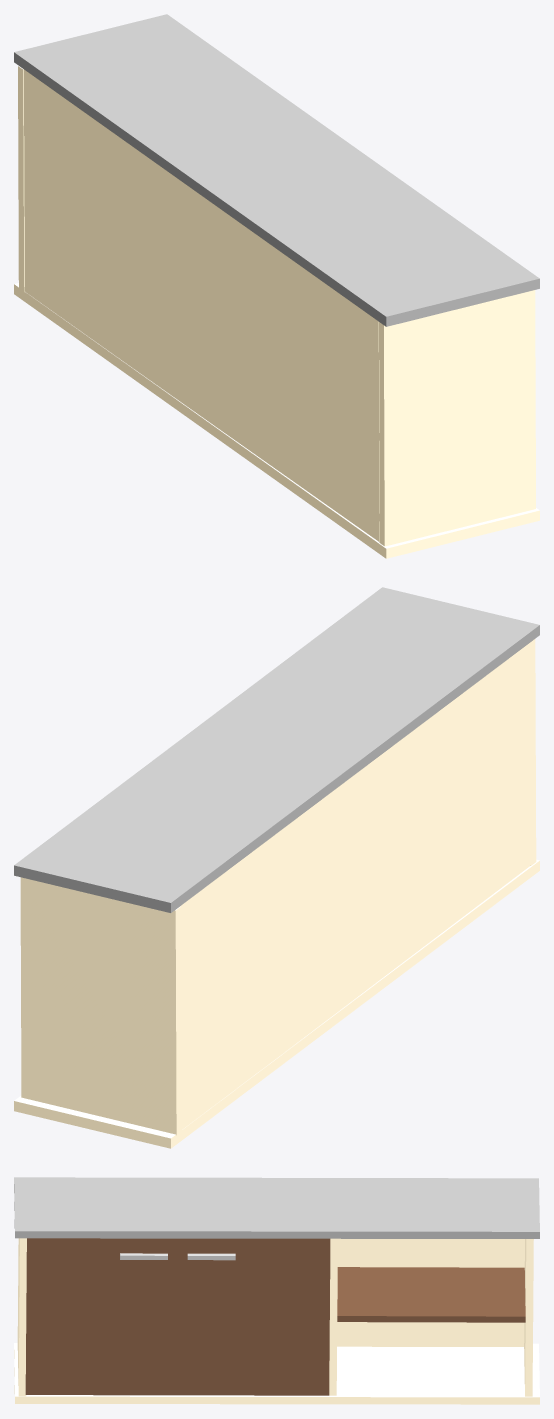
The picture shows the model from 3 angles, top to bottom: view 1: azimuth 30°, elevation 25°; view 2: azimuth 150°, elevation 25°; view 3: azimuth 270°, elevation 25°; orthographic projection. The views are drawn at different scales.
Parts seen in each view (by area): view 1: Cube.062, Cube.055, Cube.061, Cube.064, Cube.063; view 2: Cube.062, Cube.055, Cube.063, Cube.064, Cube.061; view 3: Cube.055, Cube.057, Cube.056, Cube.064, Cube.059, Cube.062, Cube.063, Cube.061, Cube.060, Cube.053, Cube.054.
Boxes of the visible parts, bbox=[...] form: Cube.062: bbox=[24, 69, 379, 542]; Cube.055: bbox=[14, 14, 539, 326]; Cube.061: bbox=[379, 290, 535, 546]; Cube.064: bbox=[14, 283, 539, 558]; Cube.063: bbox=[18, 65, 24, 292]; Cube.062: bbox=[180, 642, 531, 1129]; Cube.055: bbox=[14, 587, 539, 912]; Cube.063: bbox=[20, 877, 181, 1135]; Cube.064: bbox=[14, 859, 539, 1148]; Cube.061: bbox=[530, 639, 536, 865]; Cube.055: bbox=[14, 1177, 539, 1238]; Cube.057: bbox=[25, 1238, 179, 1395]; Cube.056: bbox=[178, 1238, 330, 1395]; Cube.064: bbox=[14, 1343, 539, 1404]; Cube.059: bbox=[337, 1267, 525, 1322]; Cube.062: bbox=[337, 1238, 524, 1346]; Cube.063: bbox=[524, 1239, 533, 1396]; Cube.061: bbox=[17, 1238, 26, 1396]; Cube.060: bbox=[329, 1238, 337, 1395]; Cube.053: bbox=[187, 1253, 235, 1260]; Cube.054: bbox=[120, 1253, 167, 1259].
Size of the model in its own units: 0.4242 by 0.6076 by 1.65.
